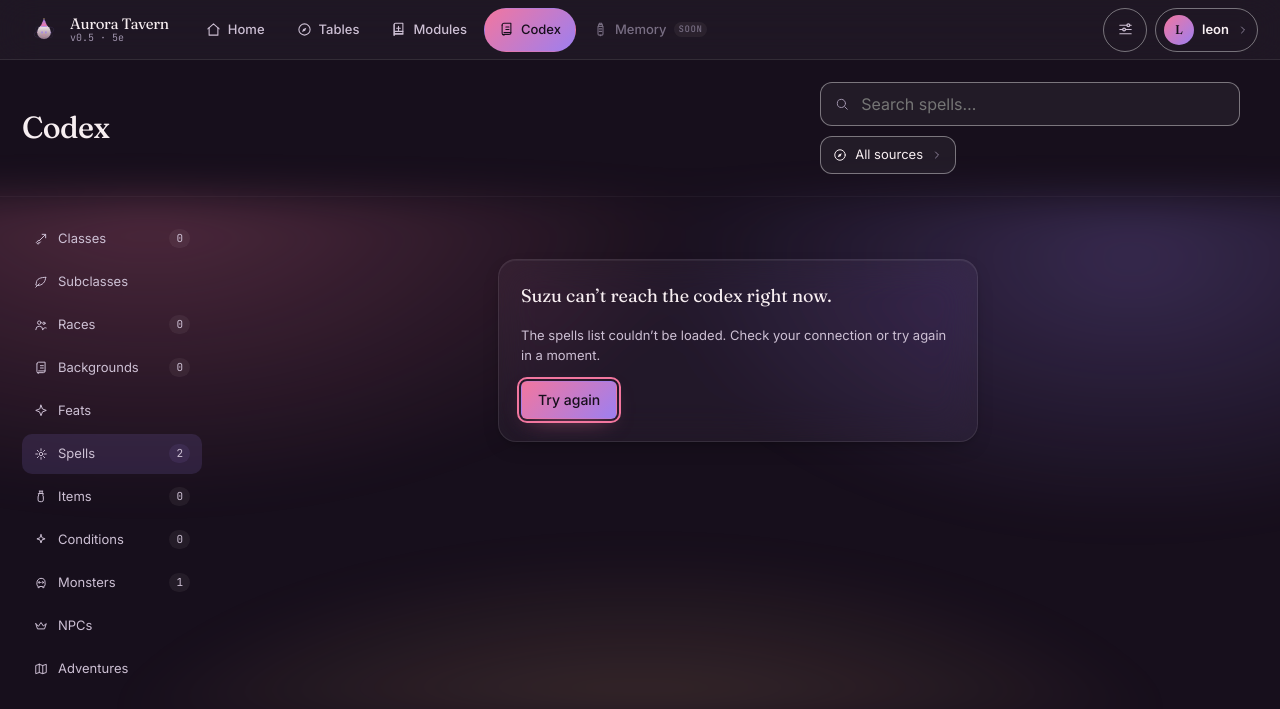
Test case: retry re-fetches the active kind and shows the list on success
The image size is (1280, 709).
Click the button "Try again".
click(569, 400)  # box [521,381,617,419]
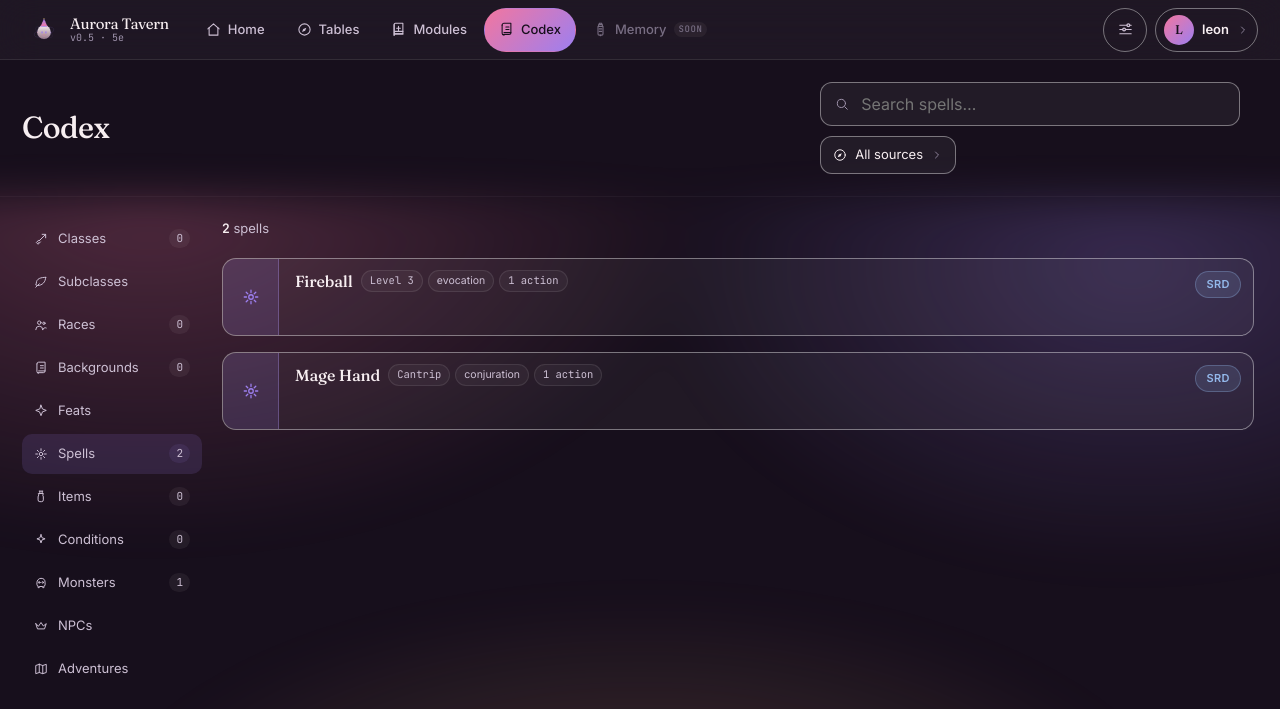
Expected: the option "Fireball Level 3 evocation 1 action SRD" is shown, [222,258,1254,336]
